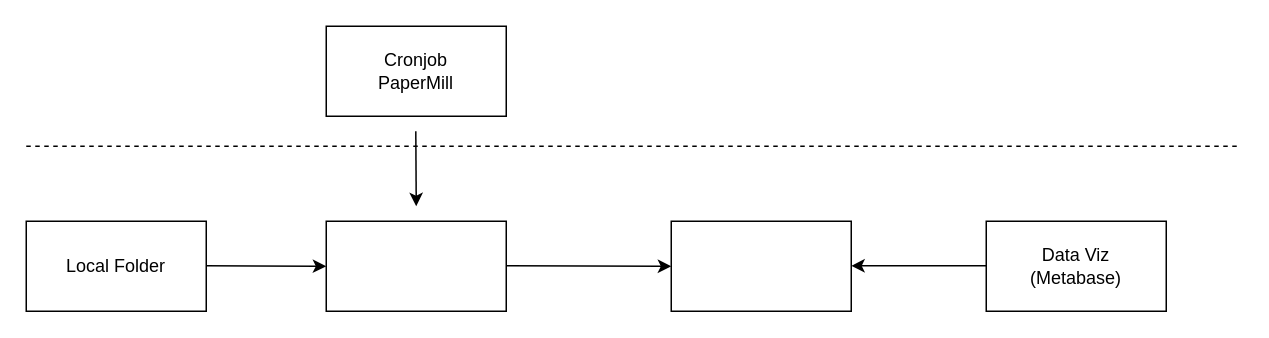
The diagram is 1269 pixels wide and 338 high, and some of its shapes have lost their labels. Here are the shapes that lost their labels. From the top down, the centre of each, then its label:
At (x=415, y=265): "Jupyter Notebook (Deploy)".
At (x=760, y=265): "Database (SQLITE)".
